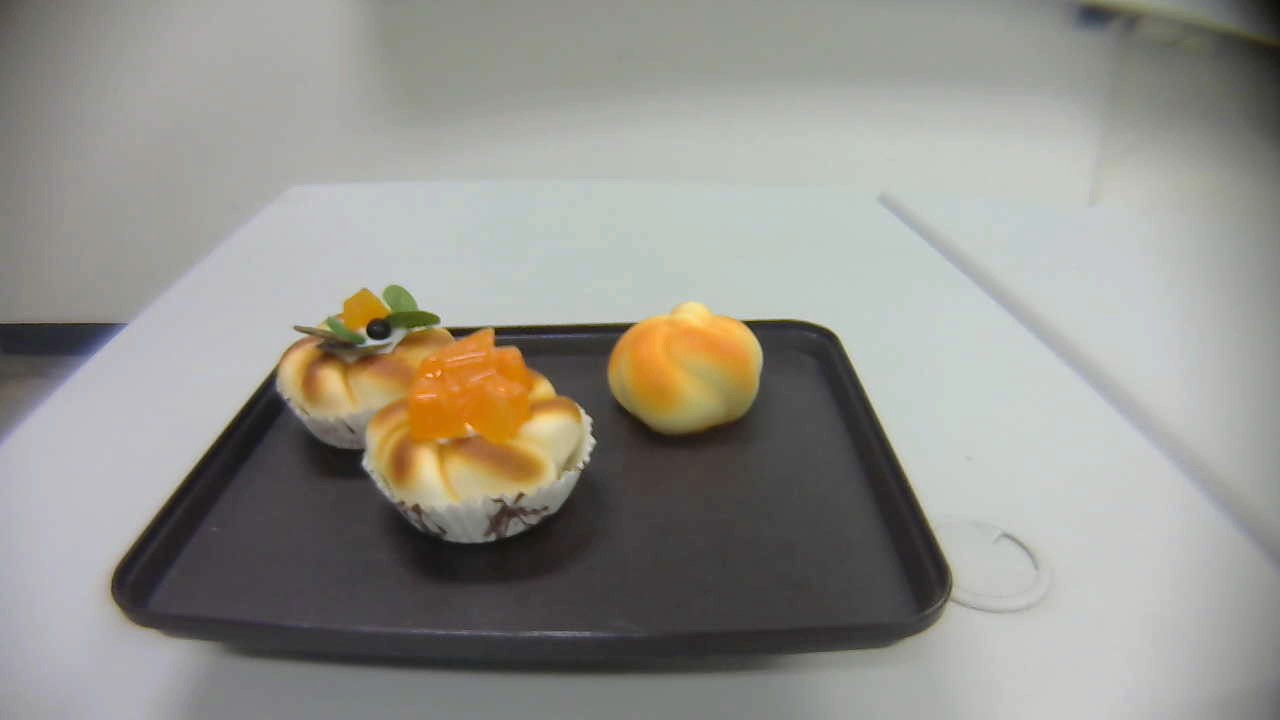fruit tart: (276, 282, 464, 452)
mango tart: (361, 326, 594, 543)
twist bread: (608, 299, 765, 436)
